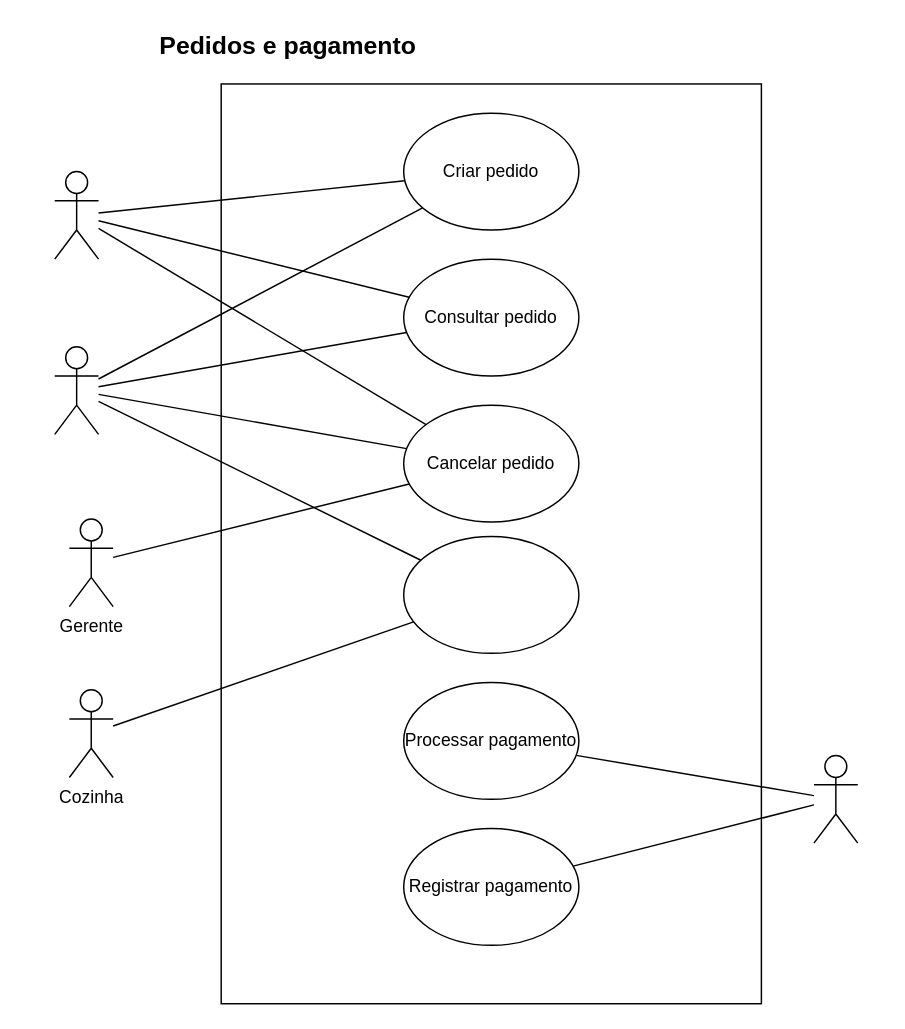
Some shapes in this 905 by 1029 pixel diagram are drawn without their labels. Each missing label, with the centre of its shape:
"Atendente" belongs at pixel 76 389.
"Atualizar status do pedido" belongs at pixel 490 594.
"Cliente" belongs at pixel 76 214.
"Gateway de Pagamento" belongs at pixel 835 798.
